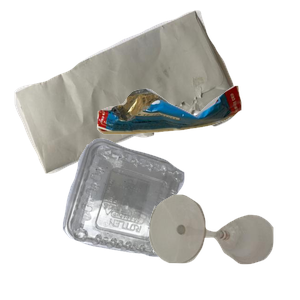glass: (147, 192, 300, 300)
paper: (12, 10, 240, 176)
plastic: (60, 136, 237, 300)
trash: (94, 83, 300, 210)
